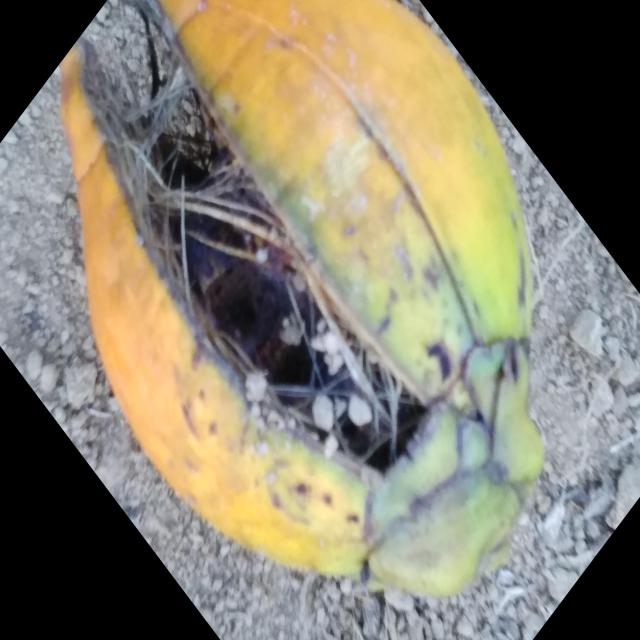damaged: (61, 0, 543, 597)
